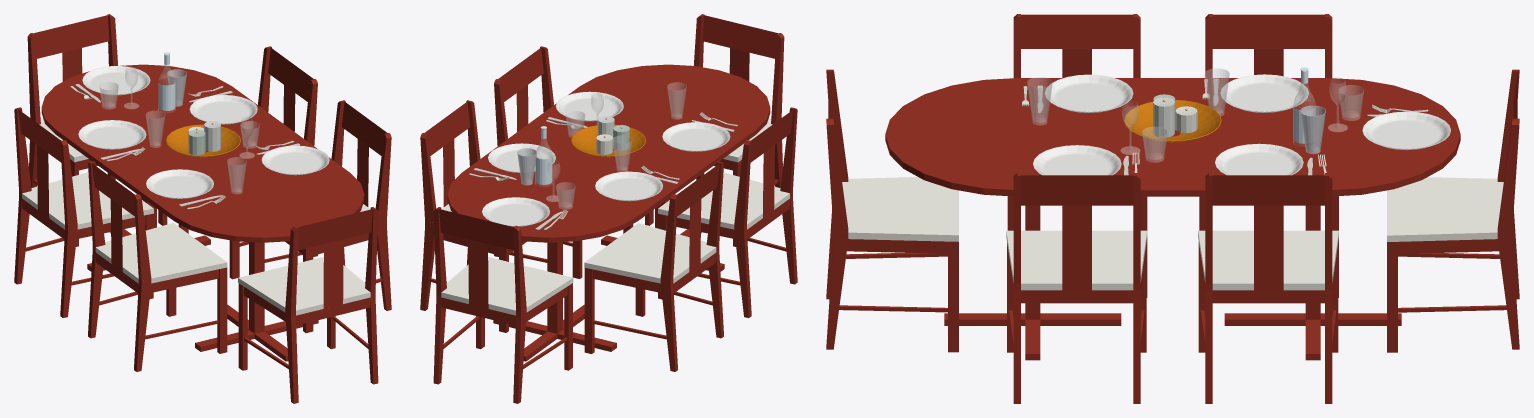
The model's file is Dining Set 2.glb.
The picture shows the model from 3 angles, left to right: view 1: azimuth 30°, elevation 25°; view 2: azimuth 150°, elevation 25°; view 3: azimuth 270°, elevation 25°; orthographic projection. The views are drawn at different scales.
Parts seen in each view (by area): view 1: Node; view 2: Node; view 3: Node.
Boxes of the visible parts, x1,y1,x2,y2 form: Node: (14,14,391,403); Node: (420,14,797,403); Node: (826,14,1519,403).
Size of the model in its own units: 52 by 39.38 by 94.
